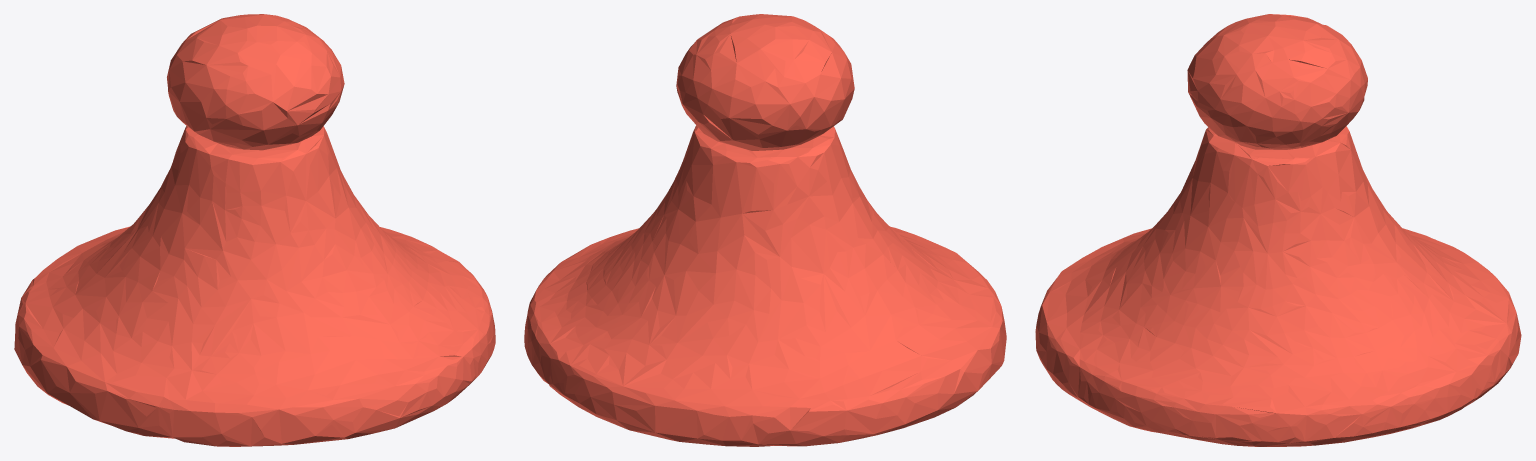
File: pawn_modern_you.glb
3 renders of one model, left to right at view 1: azimuth 30°, elevation 25°; view 2: azimuth 150°, elevation 25°; view 3: azimuth 270°, elevation 25°, orthographic.
Visible parts, largest first — view 1: geometry_0; view 2: geometry_0; view 3: geometry_0.
Part boxes in pixels (<box>): geometry_0: <box>14,14,495,446</box>; geometry_0: <box>524,14,1006,446</box>; geometry_0: <box>1035,14,1521,446</box>.
Size of the model in its own units: 0.032 by 0.024 by 0.032.
